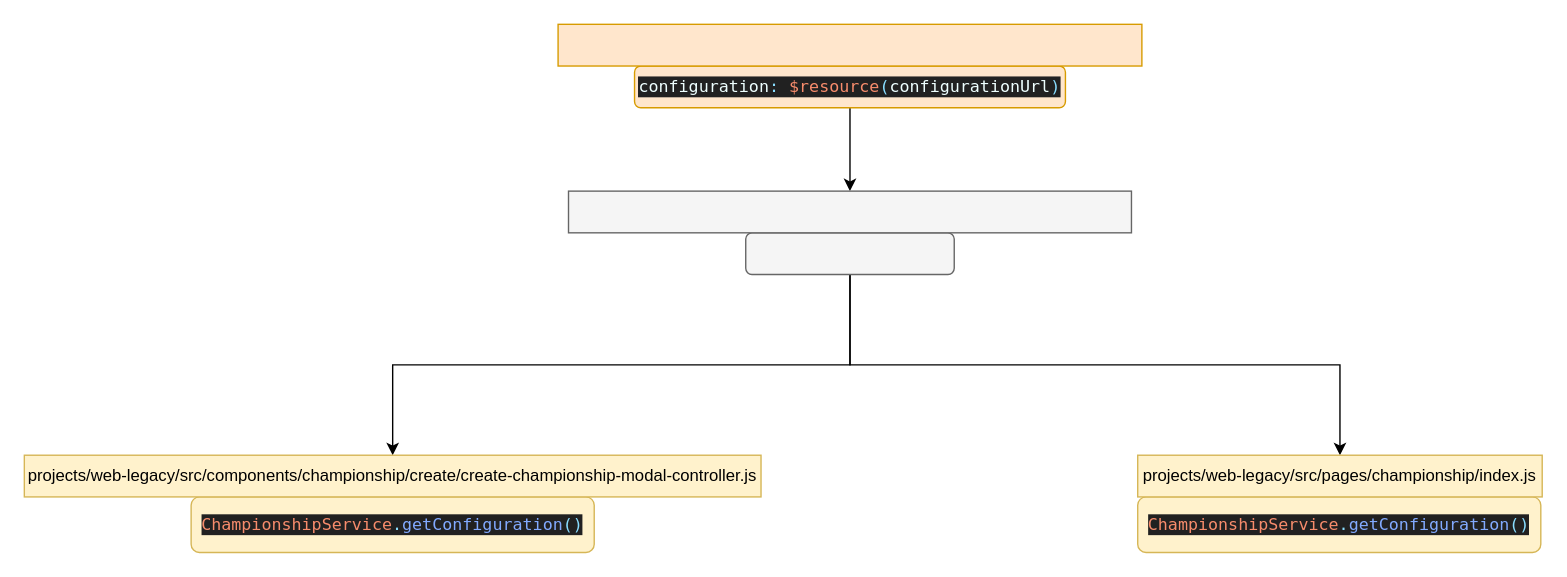
This 1567x577 diagram has some shape labels left out. Each missing label, with the box of its shape:
getConfiguration (): (744, 231, 954, 275)
projects/web-legacy/src/components/championship/championship-resource.js: (557, 23, 1142, 66)
projects/web-legacy/src/components/championship/championship-service.js: (567, 190, 1131, 233)
